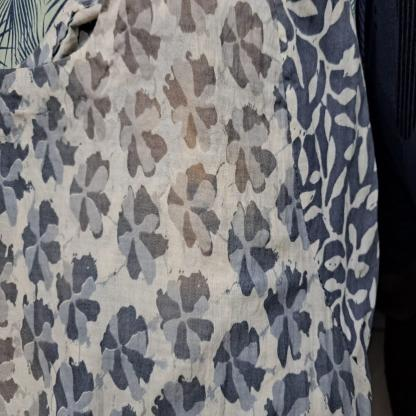spot: (62, 3, 289, 261)
